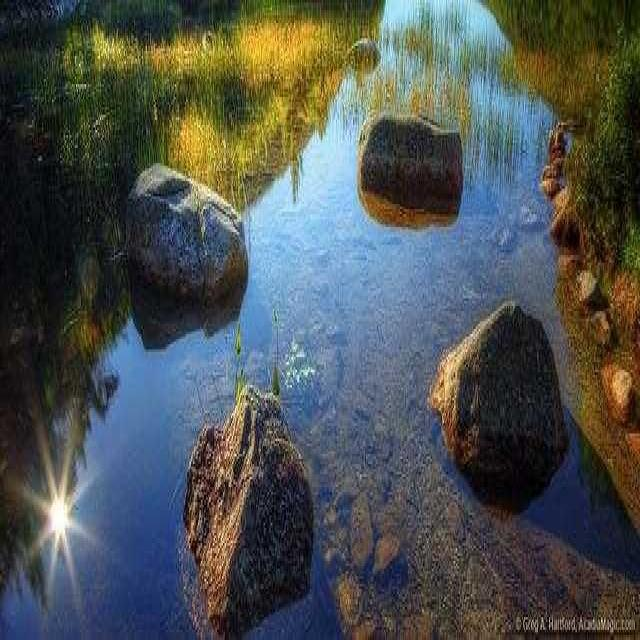Ponds: (3, 2, 640, 639)
